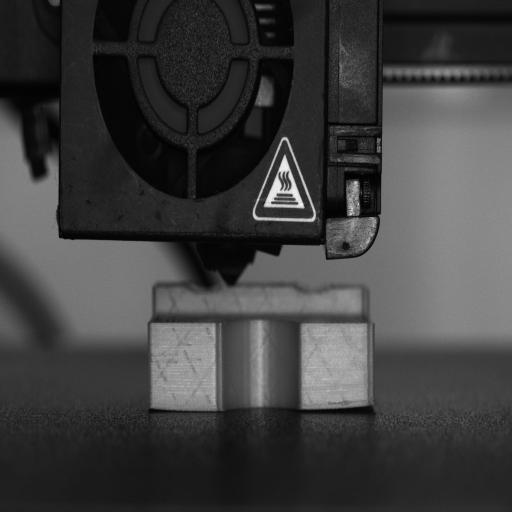warp: (297, 395, 382, 418), (143, 396, 173, 416)
